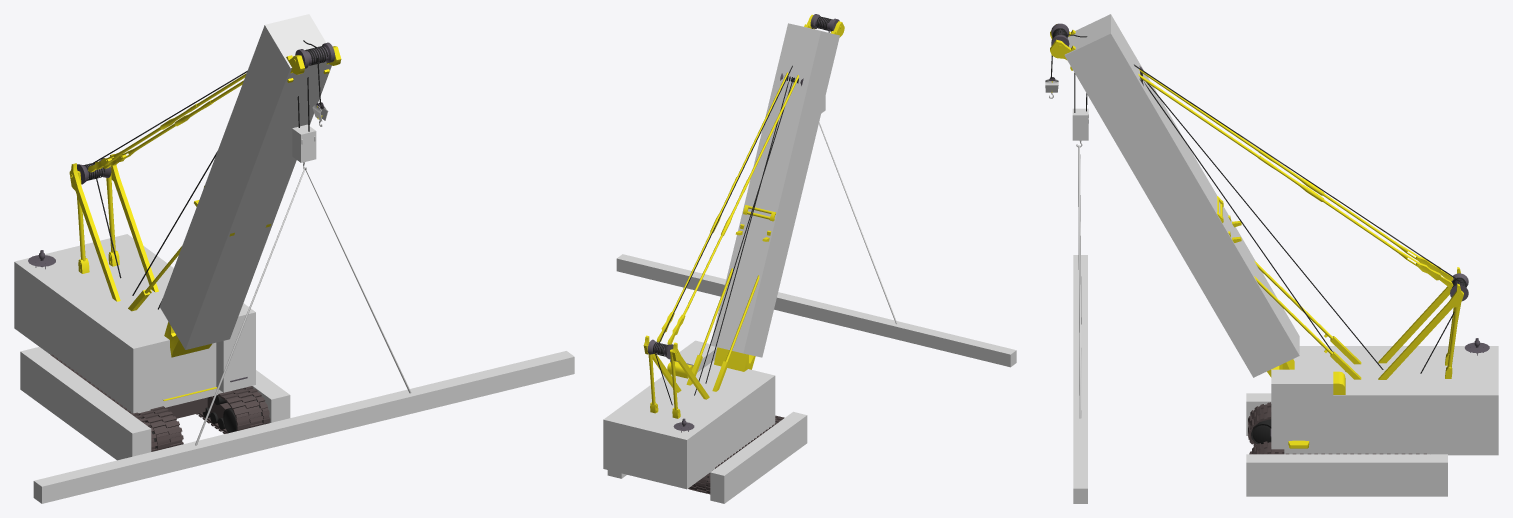
Rendered from crane_full.glb.
3 renders of one model, left to right at view 1: azimuth 30°, elevation 25°; view 2: azimuth 150°, elevation 25°; view 3: azimuth 270°, elevation 25°, orthographic. The views are drawn at different scales.
Parts seen in each view (by area): view 1: bbox_Boom, bbox_Box, bbox_load, bbox_Trail_R, mesh_Trail, mesh_Truss, bbox_Cabin, mesh_BoomMast, mesh_loadLine, bbox_Trail_L, mesh_Line1_1, bbox_Hook (+1 smaller); view 2: bbox_Boom, bbox_Box, bbox_load, bbox_Trail_R, mesh_Truss, mesh_BoomMast, mesh_Line1_1, mesh_Line1_2, bbox_Cabin, mesh_Piston1_2, mesh_GuyLine2, mesh_GuyLine3 (+1 smaller); view 3: bbox_Boom, bbox_Box, bbox_Trail_L, bbox_Cabin, bbox_load, mesh_Truss, mesh_Line1_1, mesh_Trail, mesh_Line1_2, mesh_BoomMast, mesh_loadLine, mesh_Box (+6 smaller).
Part boxes in pixels (<box>): bbox_Boom: <box>159,14,331,349</box>; bbox_Box: <box>14,234,222,413</box>; bbox_load: <box>33,351,574,503</box>; bbox_Trail_R: <box>20,347,151,460</box>; mesh_Trail: <box>51,354,270,451</box>; mesh_Truss: <box>69,154,158,301</box>; bbox_Cabin: <box>216,303,255,392</box>; mesh_BoomMast: <box>164,40,341,357</box>; mesh_loadLine: <box>195,167,411,445</box>; bbox_Trail_L: <box>252,370,290,423</box>; mesh_Line1_1: <box>88,100,212,172</box>; bbox_Hook: <box>292,124,316,162</box>; bbox_Boom: <box>710,23,839,357</box>; bbox_Box: <box>603,360,775,489</box>; bbox_load: <box>616,254,1016,367</box>; bbox_Trail_R: <box>710,411,807,503</box>; mesh_Truss: <box>643,335,709,418</box>; mesh_BoomMast: <box>714,14,844,371</box>; mesh_Line1_1: <box>656,177,749,344</box>; mesh_Line1_2: <box>710,72,798,235</box>; bbox_Cabin: <box>670,340,717,372</box>; mesh_Piston1_2: <box>699,268,759,361</box>; mesh_GuyLine2: <box>694,78,793,395</box>; mesh_GuyLine3: <box>658,65,792,345</box>; bbox_Boom: <box>1064,14,1299,377</box>; bbox_Box: <box>1284,346,1498,455</box>; bbox_Trail_L: <box>1246,454,1447,496</box>; bbox_Cabin: <box>1271,369,1333,449</box>; bbox_load: <box>1073,255,1087,503</box>; mesh_Truss: <box>1378,267,1468,379</box>; mesh_Line1_1: <box>1258,149,1453,287</box>; mesh_Trail: <box>1248,402,1426,454</box>; mesh_Line1_2: <box>1138,69,1324,201</box>; mesh_BoomMast: <box>1050,23,1294,377</box>; mesh_loadLine: <box>1078,145,1081,418</box>; mesh_Box: <box>1270,338,1489,448</box>.
Size of the model in its own units: 9.62 by 8.42 by 7.89.
